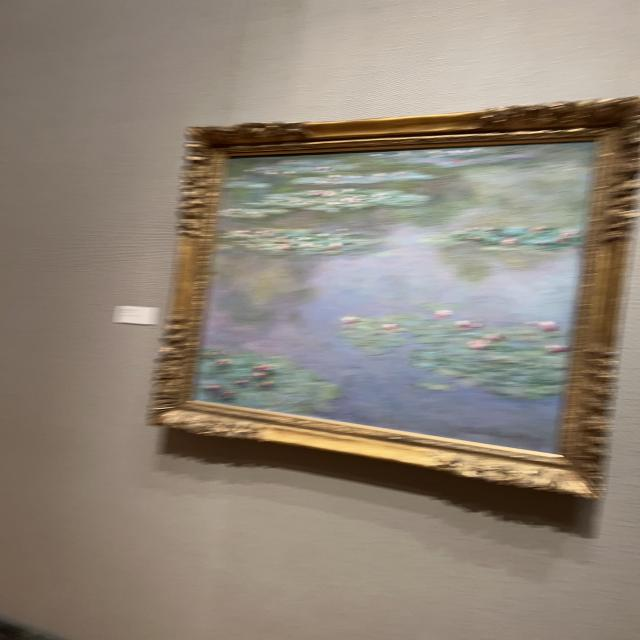lilies: (195, 146, 594, 448)
